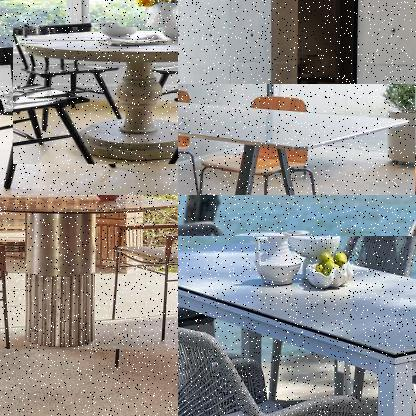table: (178, 236, 415, 415), (0, 195, 177, 351), (178, 84, 415, 194), (13, 26, 177, 166)
